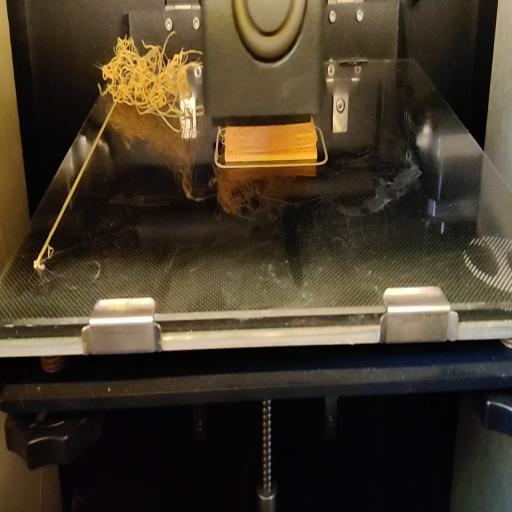spaghetti: (98, 28, 201, 133)
